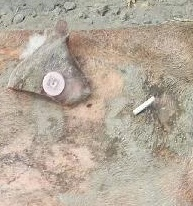text: (35, 58, 77, 103)
